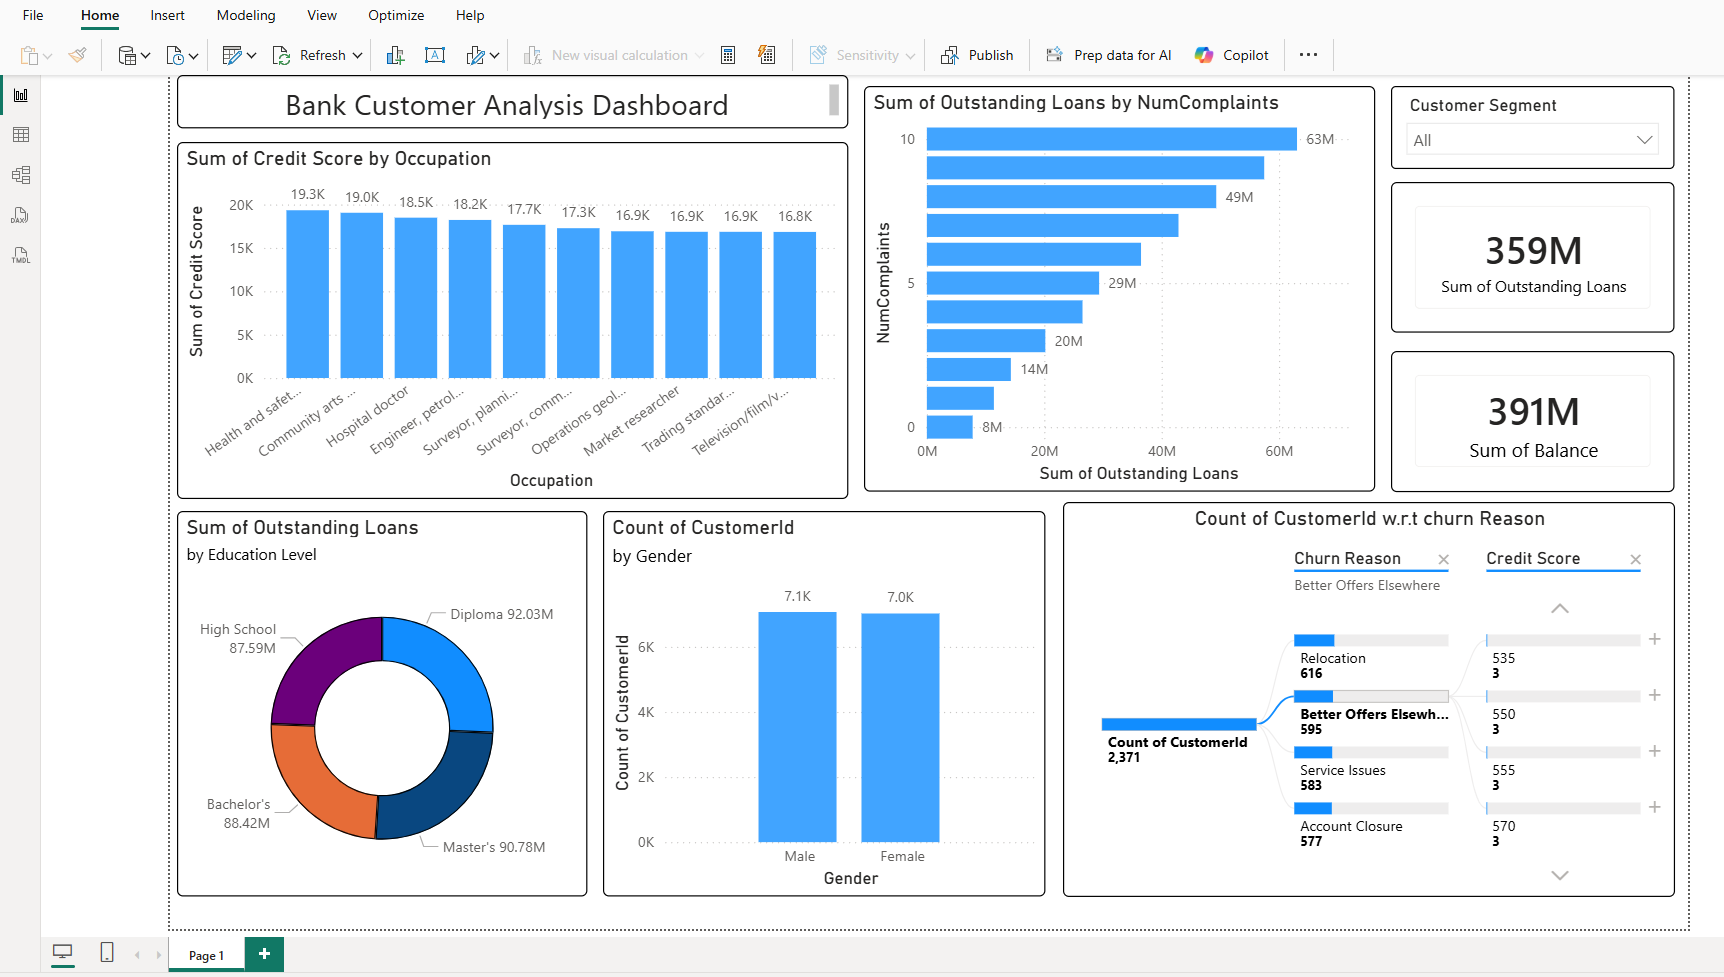

The page's visual inventory and layout, read from the dashboard file:
{"tool":"powerbi","page":{"name":"Page 1","canvas":[1280,720],"ordinal":0},"visuals":[{"type":"clusteredColumnChart","fields":{"Category":["botswana_bank_customer_churn.Occupation"],"Y":["Sum(botswana_bank_customer_churn.Credit Score)"]},"box":[5.9,56.5,565.7,301],"z":0},{"type":"barChart","fields":{"Category":["botswana_bank_customer_churn.NumComplaints"],"Y":["Sum(botswana_bank_customer_churn.Outstanding Loans)"]},"box":[585.1,9.3,430.8,342.3],"z":1000},{"type":"cardVisual","fields":{"Data":["Sum(botswana_bank_customer_churn.Outstanding Loans)"]},"box":[1029.4,90.2,239.4,127.3],"z":2000},{"type":"donutChart","fields":{"Y":["Sum(botswana_bank_customer_churn.Outstanding Loans)"],"Category":["botswana_bank_customer_churn.Education Level"]},"box":[6,367.4,345.9,325.2],"z":3000},{"type":"cardVisual","fields":{"Data":["Sum(botswana_bank_customer_churn.Balance)"]},"box":[1029.4,232.7,239.4,118.9],"z":4000},{"type":"clusteredColumnChart","fields":{"Category":["botswana_bank_customer_churn.Gender"],"Y":["CountNonNull(botswana_bank_customer_churn.CustomerId)"]},"box":[364.9,367.4,373.5,325.2],"z":5000},{"type":"decompositionTreeVisual","title":"Count of CustomerId  w.r.t churn Reason","fields":{"ExplainBy":["botswana_bank_customer_churn.Churn Reason","botswana_bank_customer_churn.Credit Score","botswana_bank_customer_churn.Gender"],"Analyze":["CountNonNull(botswana_bank_customer_churn.CustomerId)"]},"box":[752.9,360,516,333],"z":6000},{"type":"slicer","fields":{"Values":["botswana_bank_customer_churn.Customer Segment"]},"box":[1029.4,9.3,239.4,70],"z":7000},{"type":"textbox","box":[5.9,0,565.7,44.7],"z":8000}]}

Visuals, with their boxes on the page's 1280x720 design canvas (x1, y1, x2, y2). These are canvas units, not pixel positions in the 1724x977 screenshot, which may show the page scaled, cropped or inside an application window:
clusteredColumnChart - botswana_bank_customer_churn.Occupation x Sum(botswana_bank_customer_churn.Credit Score): bbox=[6, 56, 572, 358]
barChart - botswana_bank_customer_churn.NumComplaints x Sum(botswana_bank_customer_churn.Outstanding Loans): bbox=[585, 9, 1016, 352]
cardVisual - Sum(botswana_bank_customer_churn.Outstanding Loans): bbox=[1029, 90, 1269, 218]
donutChart - Sum(botswana_bank_customer_churn.Outstanding Loans) x botswana_bank_customer_churn.Education Level: bbox=[6, 367, 352, 693]
cardVisual - Sum(botswana_bank_customer_churn.Balance): bbox=[1029, 233, 1269, 352]
clusteredColumnChart - botswana_bank_customer_churn.Gender x CountNonNull(botswana_bank_customer_churn.CustomerId): bbox=[365, 367, 738, 693]
"Count of CustomerId  w.r.t churn Reason" decompositionTreeVisual: bbox=[753, 360, 1269, 693]
slicer - botswana_bank_customer_churn.Customer Segment: bbox=[1029, 9, 1269, 79]
textbox: bbox=[6, 0, 572, 45]
